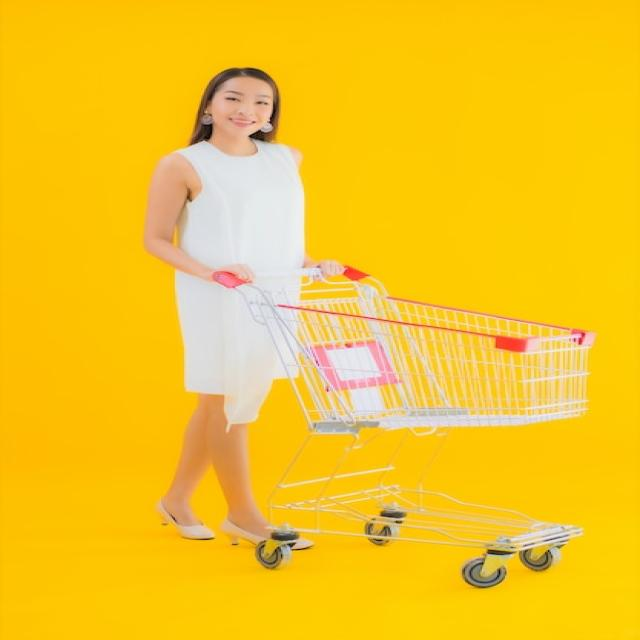Person: (146, 68, 347, 550)
